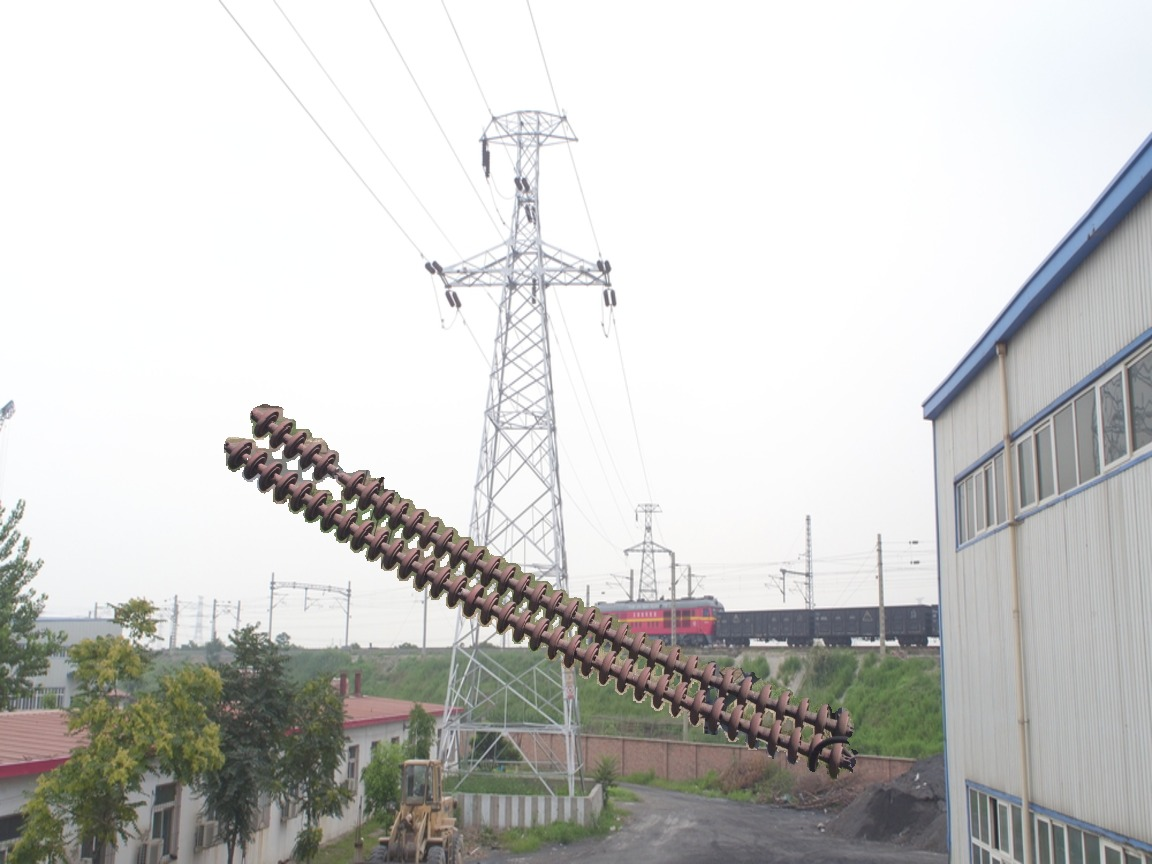defect: (310, 447, 368, 502)
